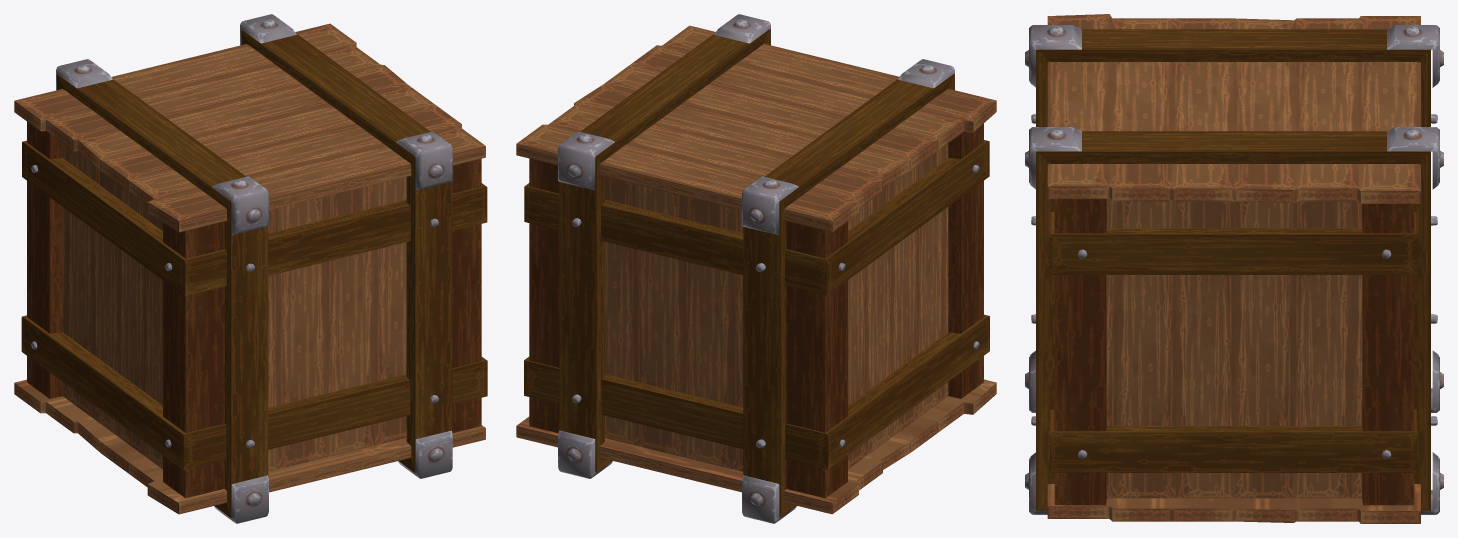
File: crate.gltf
3 views of the same model, side by side, from view 1: azimuth 30°, elevation 25°; view 2: azimuth 150°, elevation 25°; view 3: azimuth 270°, elevation 25° (orthographic). The views are drawn at different scales.
Parts seen in each view (by area): view 1: crate; view 2: crate; view 3: crate.
Boxes of the visible parts, left/top/right/bottom form: crate: left=14, top=14, right=487, bottom=523; crate: left=516, top=14, right=996, bottom=523; crate: left=1025, top=14, right=1443, bottom=523.
Size of the model in its own units: 0.8 by 0.8 by 0.8.
2 materials, 2 textured.
